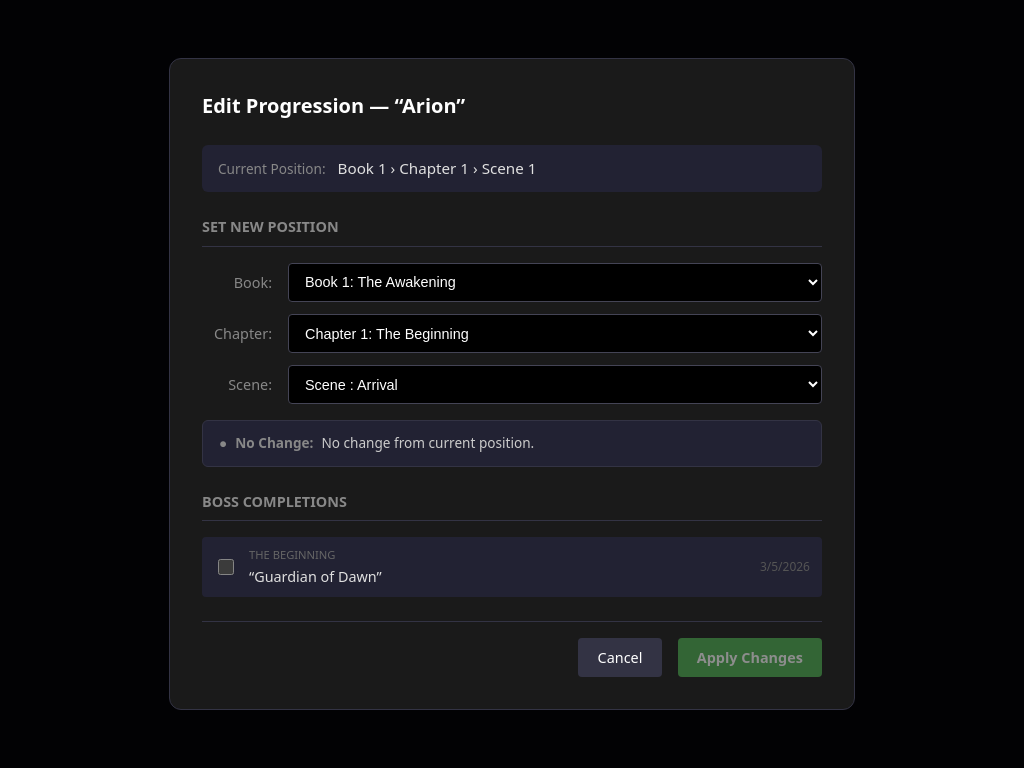
it: ProgressionEditorModal › boss completion checkboxes toggle selection
Expected: the heading "Boss Completions" is shown, 202,491 -> 822,521
Click the checkbox: [226, 567] box 218,559 -> 234,575
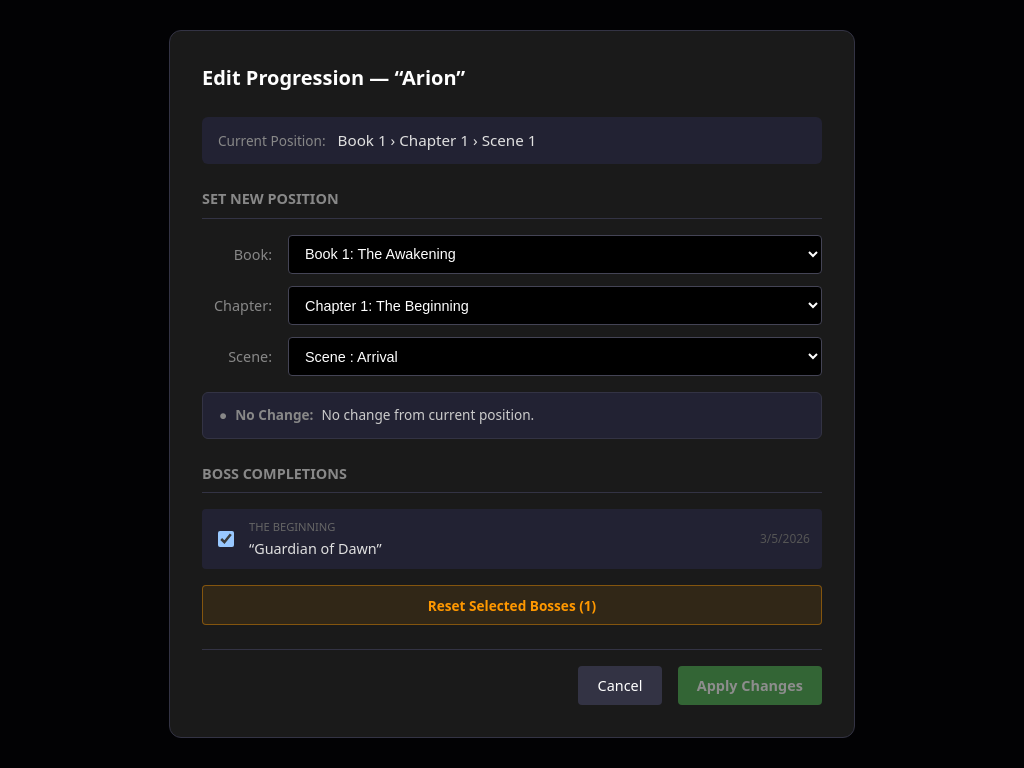
Now the checkbox is checked, box 218,531 -> 234,547
Now the button "Reset Selected Bosses (1)" is shown, box 202,585 -> 822,626
